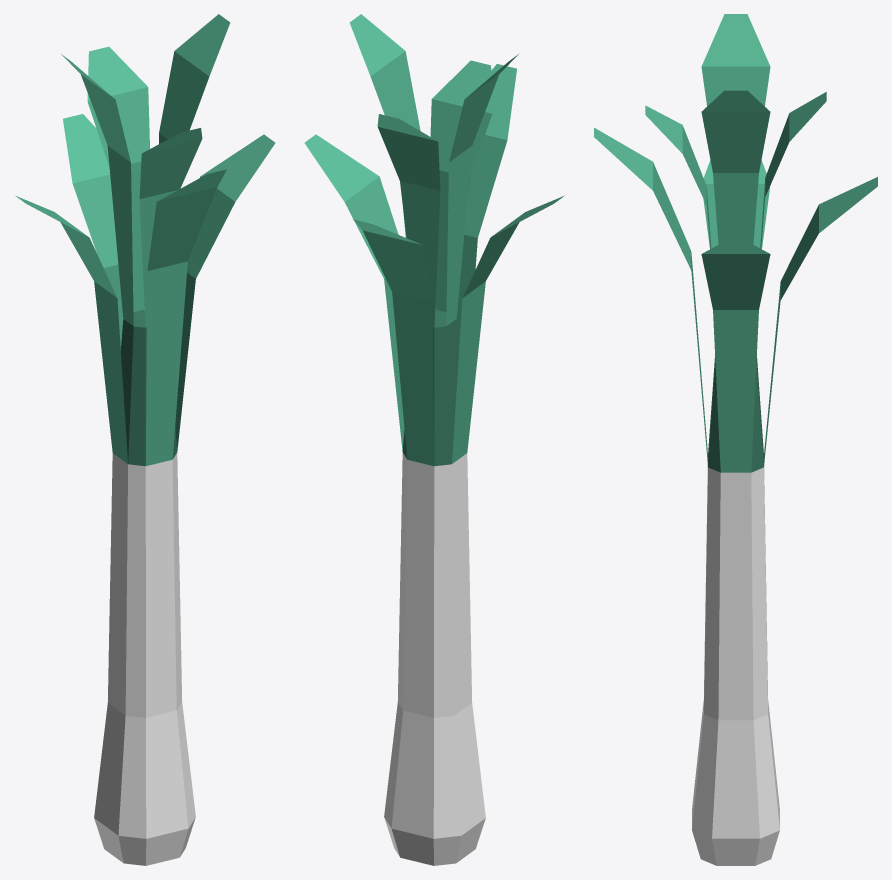
File: leek.fbx
The picture shows the model from 3 angles, left to right: view 1: azimuth 30°, elevation 25°; view 2: azimuth 150°, elevation 25°; view 3: azimuth 270°, elevation 25°; orthographic projection.
Visible parts, largest first — view 1: leek; view 2: leek; view 3: leek.
Boxes of the visible parts, x1,y1,x2,y2 form: leek: [16, 14, 275, 865]; leek: [304, 14, 563, 865]; leek: [594, 14, 877, 865].
Bounding box in the file's own units: 2.73 × 8.47 × 2.73.
